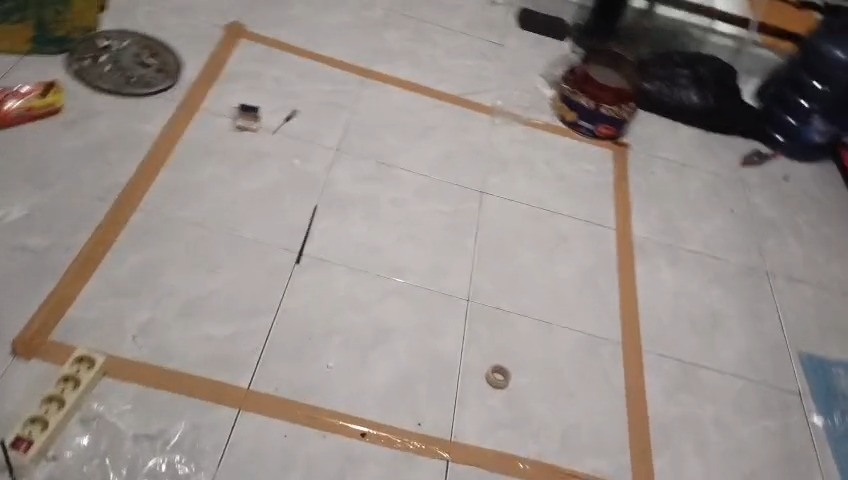floor marking: (14, 21, 495, 365), (102, 354, 594, 479), (515, 116, 653, 479)
